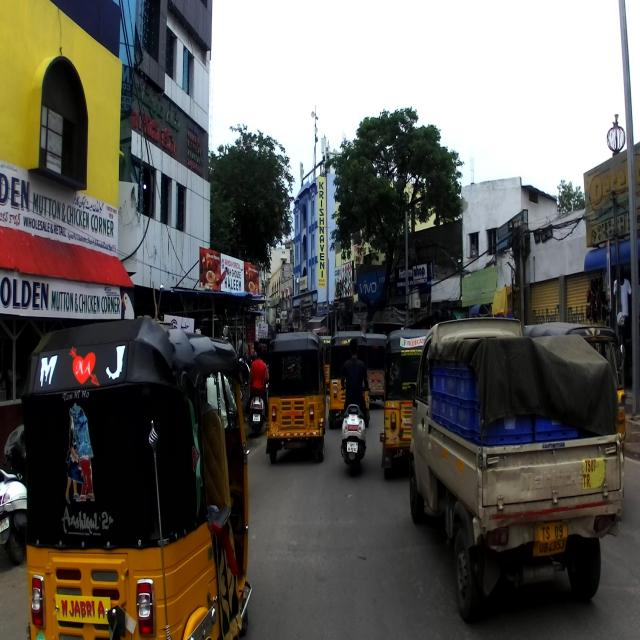autorickshaw: (25, 319, 258, 639), (265, 332, 329, 464), (378, 327, 431, 481)
scooter: (0, 422, 26, 566), (338, 382, 372, 477)
truck: (408, 304, 625, 613)
